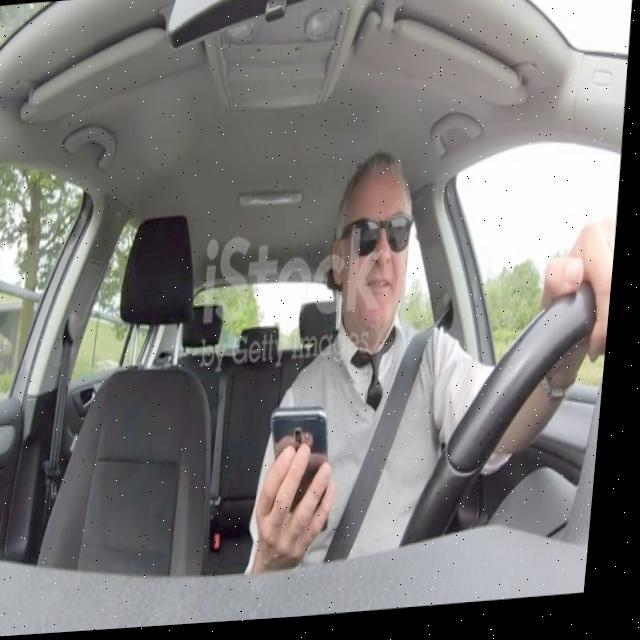PhoneCall: (268, 409, 351, 544)
